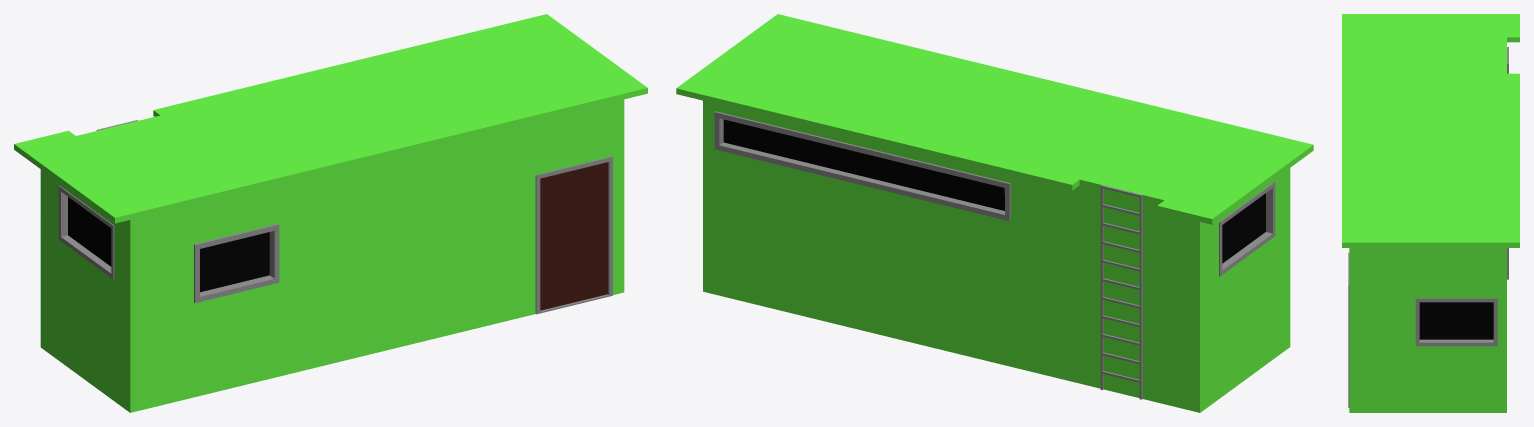
The model's file is Shack 3x1.FBX.
3 views of the same model, side by side, from view 1: azimuth 30°, elevation 25°; view 2: azimuth 150°, elevation 25°; view 3: azimuth 270°, elevation 25° (orthographic). The views are drawn at different scales.
Visible parts, largest first — view 1: Shack 2x1; view 2: Shack 2x1, Ladder; view 3: Shack 2x1.
Boxes of the visible parts, left/top/right/bottom form: Shack 2x1: left=14, top=14, right=647, bottom=412; Shack 2x1: left=676, top=14, right=1313, bottom=412; Ladder: left=1100, top=185, right=1142, bottom=399; Shack 2x1: left=1342, top=14, right=1519, bottom=412.
Bounding box in the file's own units: 275 × 100 × 90.24.
